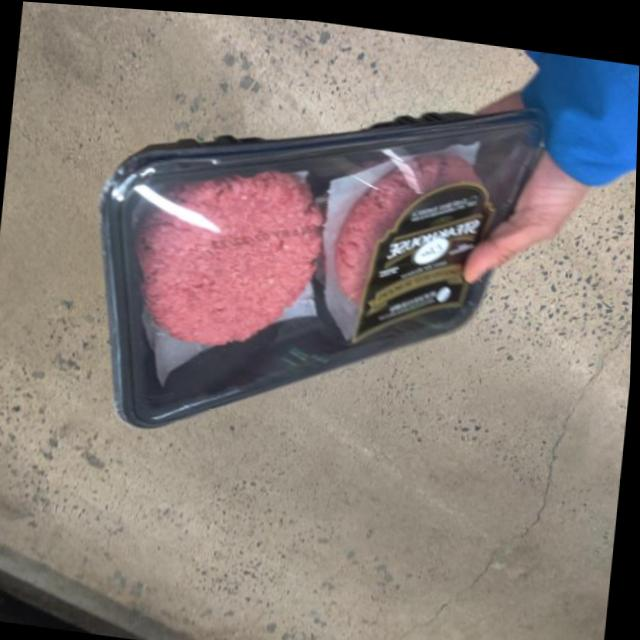Meat: (72, 32, 579, 498)
